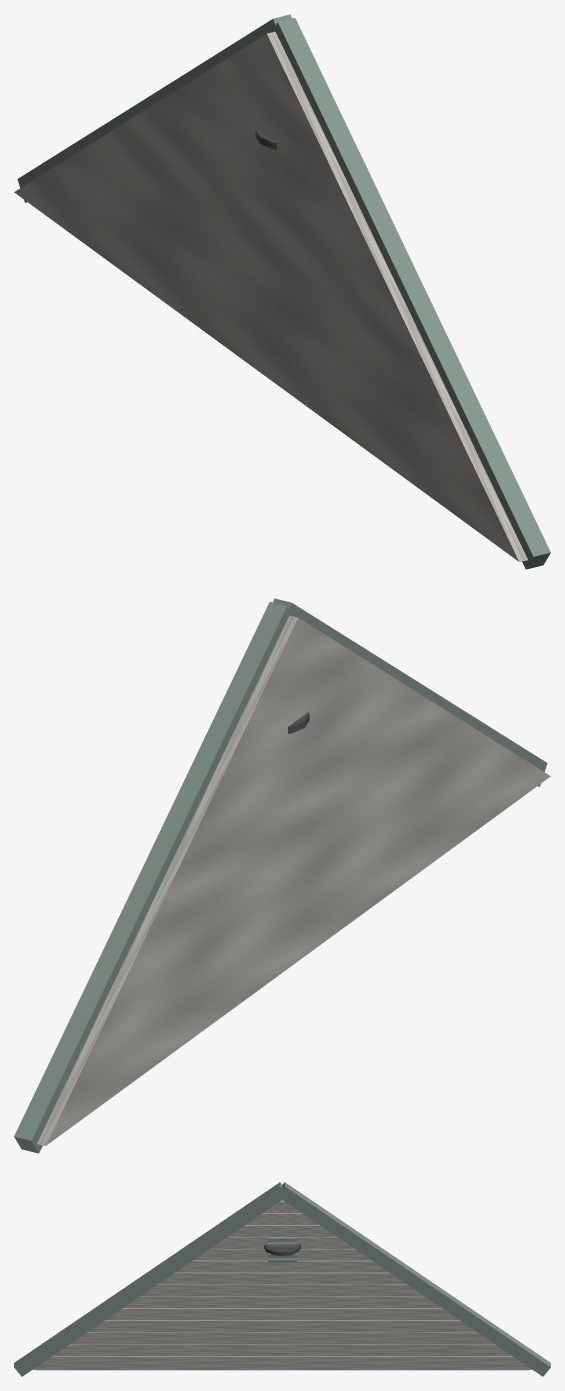
File: halloween-slasher-street-gable-end-wall-3cd71374__27268.glb
The picture shows the model from 3 angles, top to bottom: view 1: azimuth 30°, elevation 25°; view 2: azimuth 150°, elevation 25°; view 3: azimuth 270°, elevation 25°; orthographic projection. The views are drawn at different scales.
Parts seen in each view (by area): view 1: gable-end-wall; view 2: gable-end-wall; view 3: gable-end-wall.
Boxes of the visible parts, box(x1,y1,x2,y2) form: gable-end-wall: box(14, 14, 550, 569); gable-end-wall: box(14, 598, 550, 1153); gable-end-wall: box(14, 1182, 550, 1376).
Bounding box in the file's own units: 0.56 × 3.2 × 8.17.
Materials: 3 (1 with a texture image).
